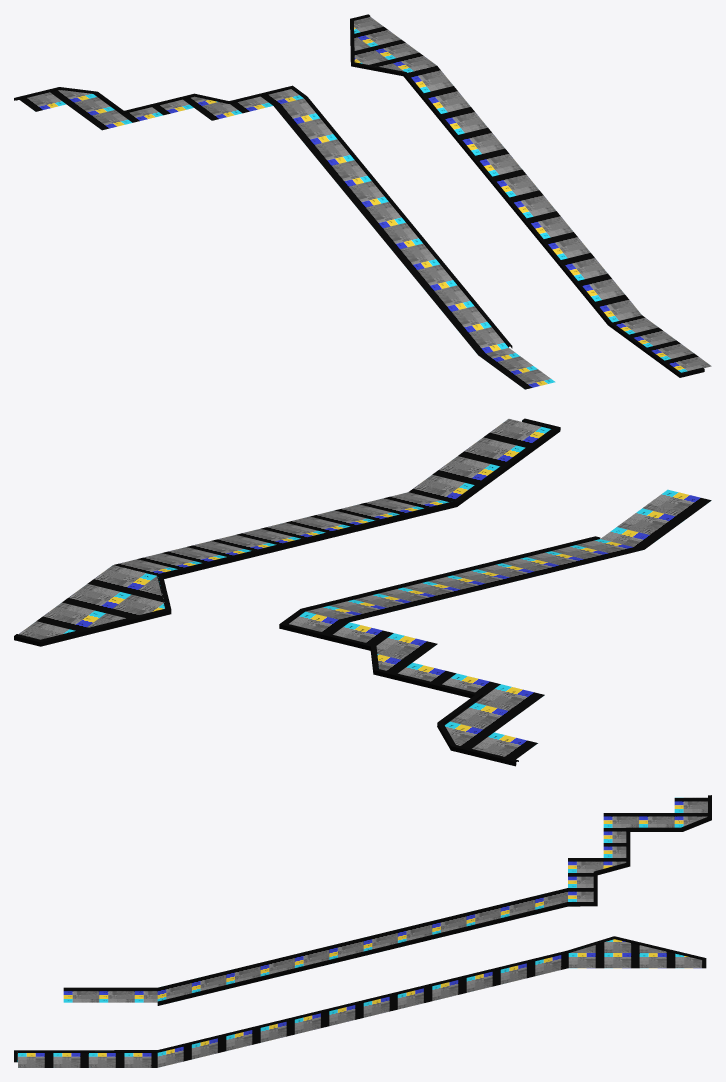
File: downtown_sidewalk_5.fbx
3 views of the same model, one above another, from view 1: azimuth 30°, elevation 25°; view 2: azimuth 150°, elevation 25°; view 3: azimuth 270°, elevation 25° (orthographic). The views are drawn at different scales.
Visible parts, largest first — view 1: Object040; view 2: Object040; view 3: Object040.
Boxes of the visible parts, x1,y1,x2,y2 form: Object040: [14, 14, 711, 389]; Object040: [14, 418, 711, 766]; Object040: [14, 795, 711, 1067].
Bounding box in the file's own units: 1867 × 521 × 3203.
